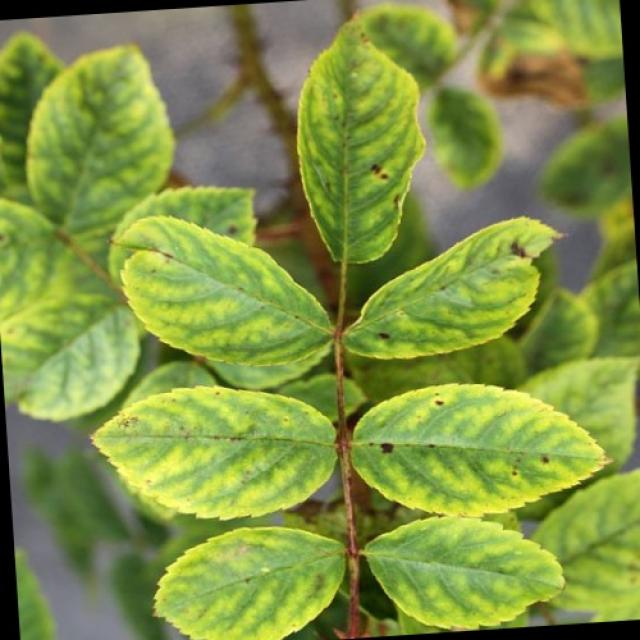Chlorosis: (55, 13, 605, 630)
